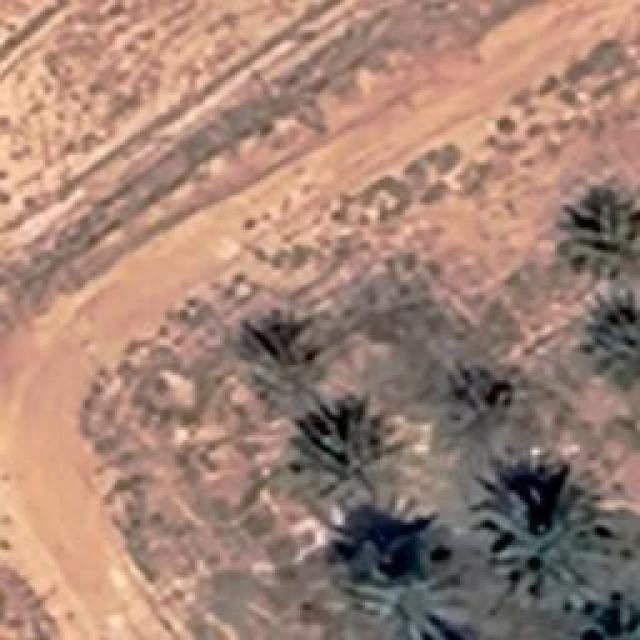PalmTree: (64, 40, 608, 620), (105, 115, 392, 570), (480, 480, 605, 590), (290, 395, 395, 500), (242, 320, 330, 415), (436, 364, 528, 454), (365, 566, 469, 640), (560, 182, 638, 270), (592, 308, 638, 392)
